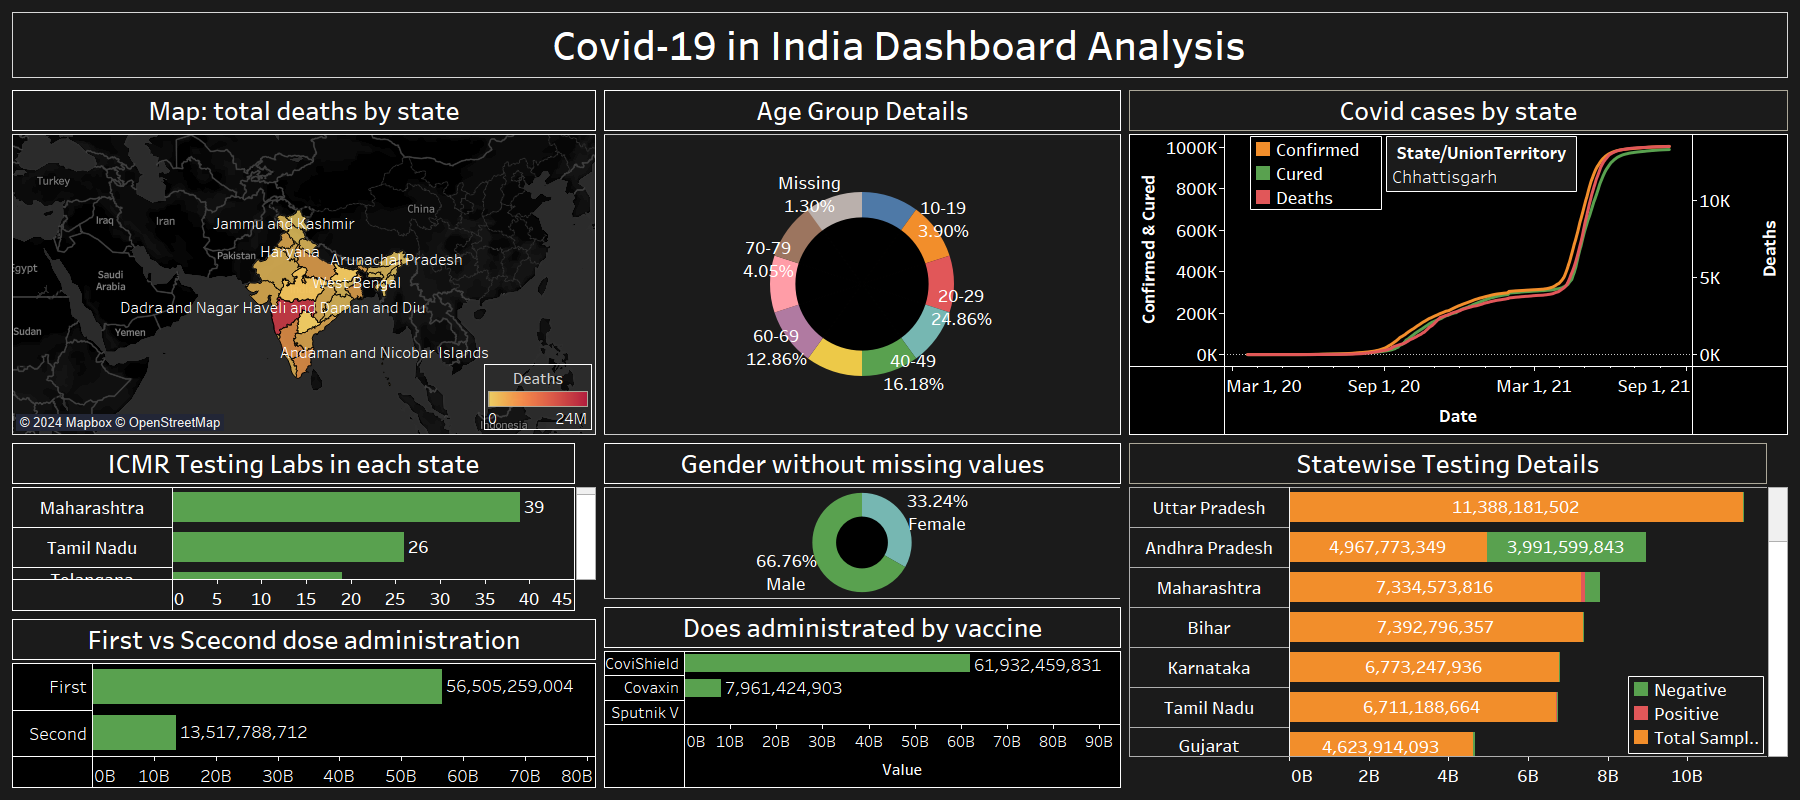

The page's visual inventory and layout, read from the dashboard file:
{"tool":"tableau","page":{"name":"Dashboard 1","canvas":[1800,800],"ordinal":0},"visuals":[{"type":"worksheet","title":"title","mark":"Automatic","box":[8,8,1784,78]},{"type":"worksheet","title":"Map","mark":"Automatic","box":[8,86,592,353]},{"type":"worksheet","title":"Age Group Details","mark":"Pie","rows":["Calculation_538461638964203521","Calculation_538461638964240387"],"box":[600,86,525,353]},{"type":"worksheet","title":"Covid case","mark":"Automatic","rows":["Deaths"],"cols":["Date"],"box":[1125,86,667,352.9]},{"type":"legend","title":"Covid case","param":"[federated.1w4zqdc1tjezkr13vykkc1wxhgqu].[:Measure Names]","box":[1250,136,132,86]},{"type":"filter","title":"Covid case","param":"[federated.1w4zqdc1tjezkr13vykkc1wxhgqu].[none:State/UnionTerritory:nk]","box":[1386,136,191,56]},{"type":"legend","title":"Map","param":"[federated.1w4zqdc1tjezkr13vykkc1wxhgqu].[sum:Deaths:qk]","box":[484,364,108,67]},{"type":"worksheet","title":"Statewise Testing Details","mark":"Automatic","rows":["State"],"box":[1125,438.9,667,353.1]},{"type":"worksheet","title":"ICMR Testing Labs in each state","mark":"Automatic","rows":["state"],"cols":["lab"],"box":[8,439,592,176.4]},{"type":"worksheet","title":"Gender without missing values","mark":"Pie","rows":["Calculation_538461638967619589","Calculation_538461638967631879"],"box":[600,439,525,164.3]},{"type":"worksheet","title":"Does administration by vaccine","mark":"Automatic","box":[600,603.3,525,188.7]},{"type":"worksheet","title":"First vs Second dose administration","mark":"Automatic","box":[8,615.4,592,176.6]},{"type":"legend","title":"Statewise Testing Details","param":"[federated.1vp1u6e16r64tw1egdxf21jdezas].[:Measure Names]","box":[1628,676,136,78]}]}

Visuals, with their boxes in screenshot pixels (x1, y1, x2, y2), scaled from the page's 1800x800 canvas onto the 1800x800 screenshot:
"title" worksheet: 8/8/1792/86
"Map" worksheet: 8/86/600/439
"Age Group Details" worksheet (Pie marks): 600/86/1125/439
"Covid case" worksheet: 1125/86/1792/439
"Covid case" legend: 1250/136/1382/222
"Covid case" filter: 1386/136/1577/192
"Map" legend: 484/364/592/431
"Statewise Testing Details" worksheet: 1125/439/1792/792
"ICMR Testing Labs in each state" worksheet: 8/439/600/615
"Gender without missing values" worksheet (Pie marks): 600/439/1125/603
"Does administration by vaccine" worksheet: 600/603/1125/792
"First vs Second dose administration" worksheet: 8/615/600/792
"Statewise Testing Details" legend: 1628/676/1764/754
